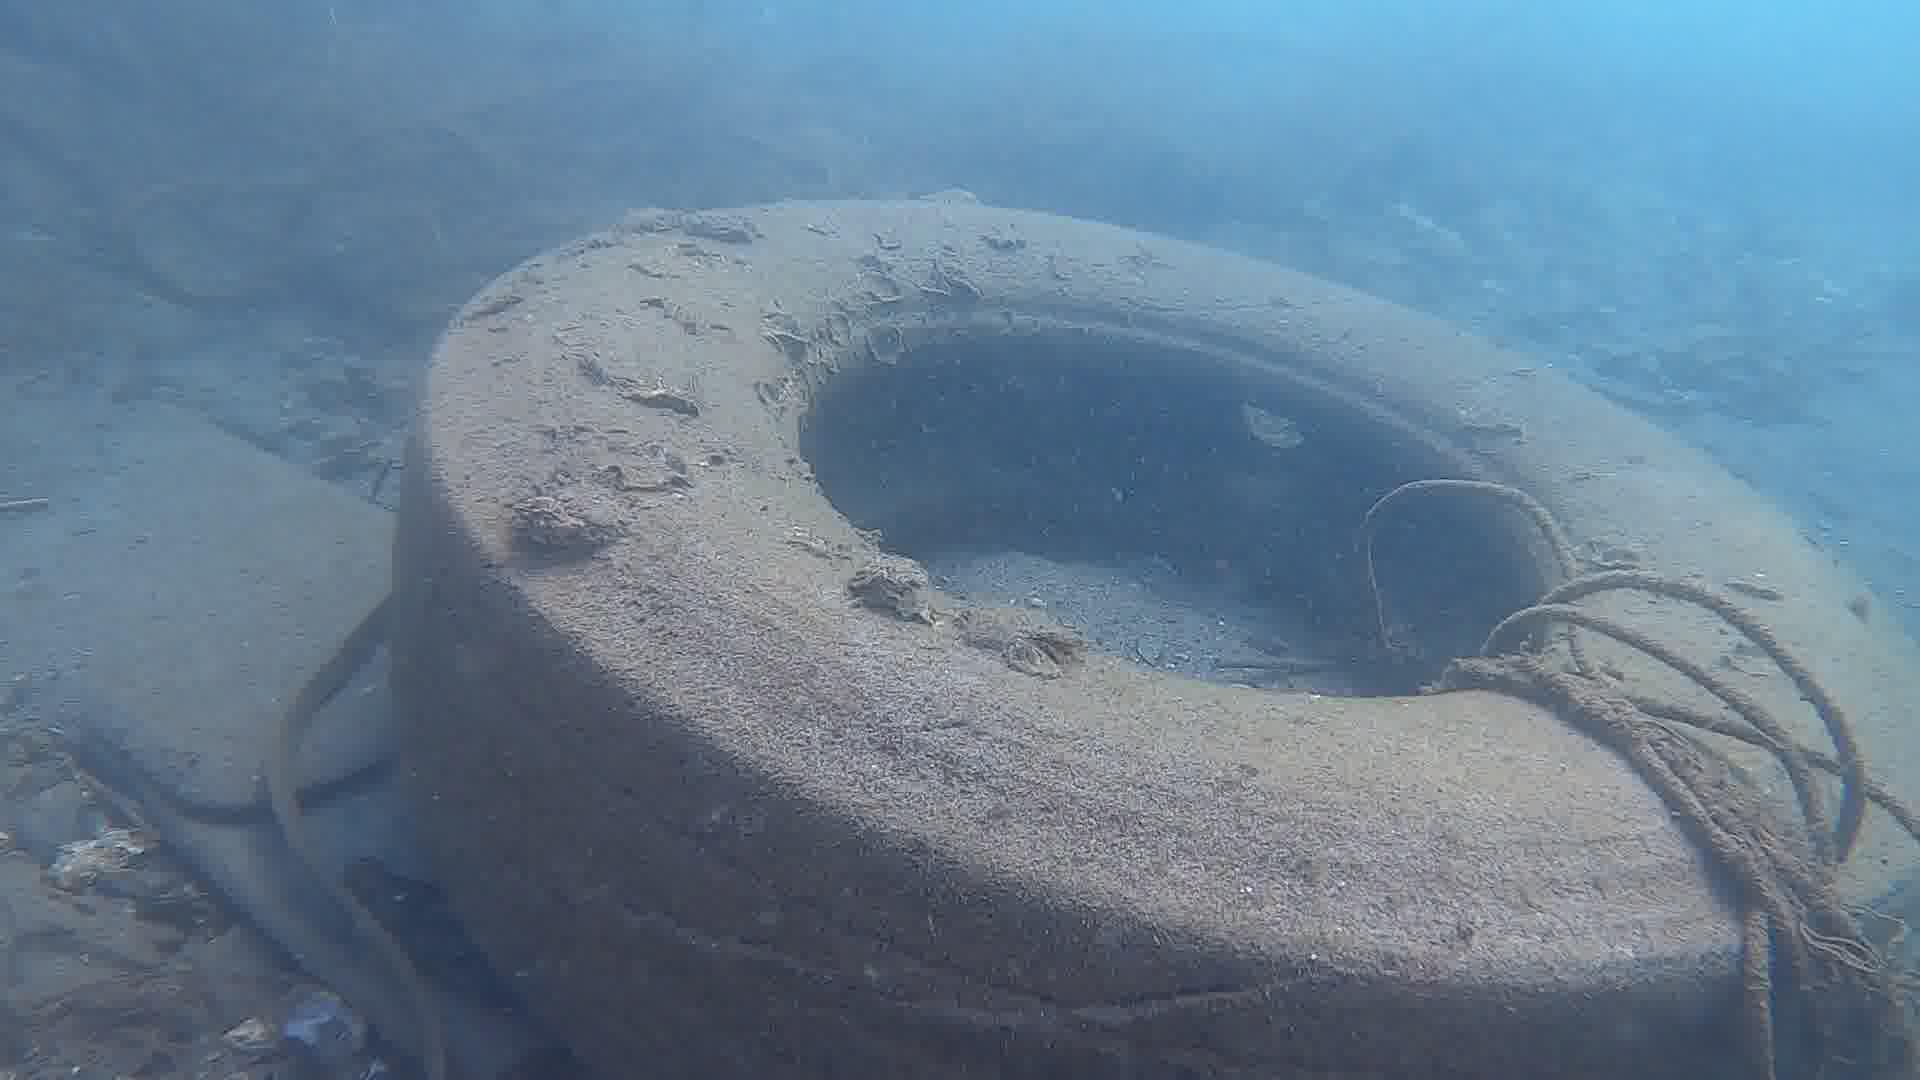bundle of ropes: (1360, 477, 1920, 1080)
tire: (392, 196, 1920, 1080)
